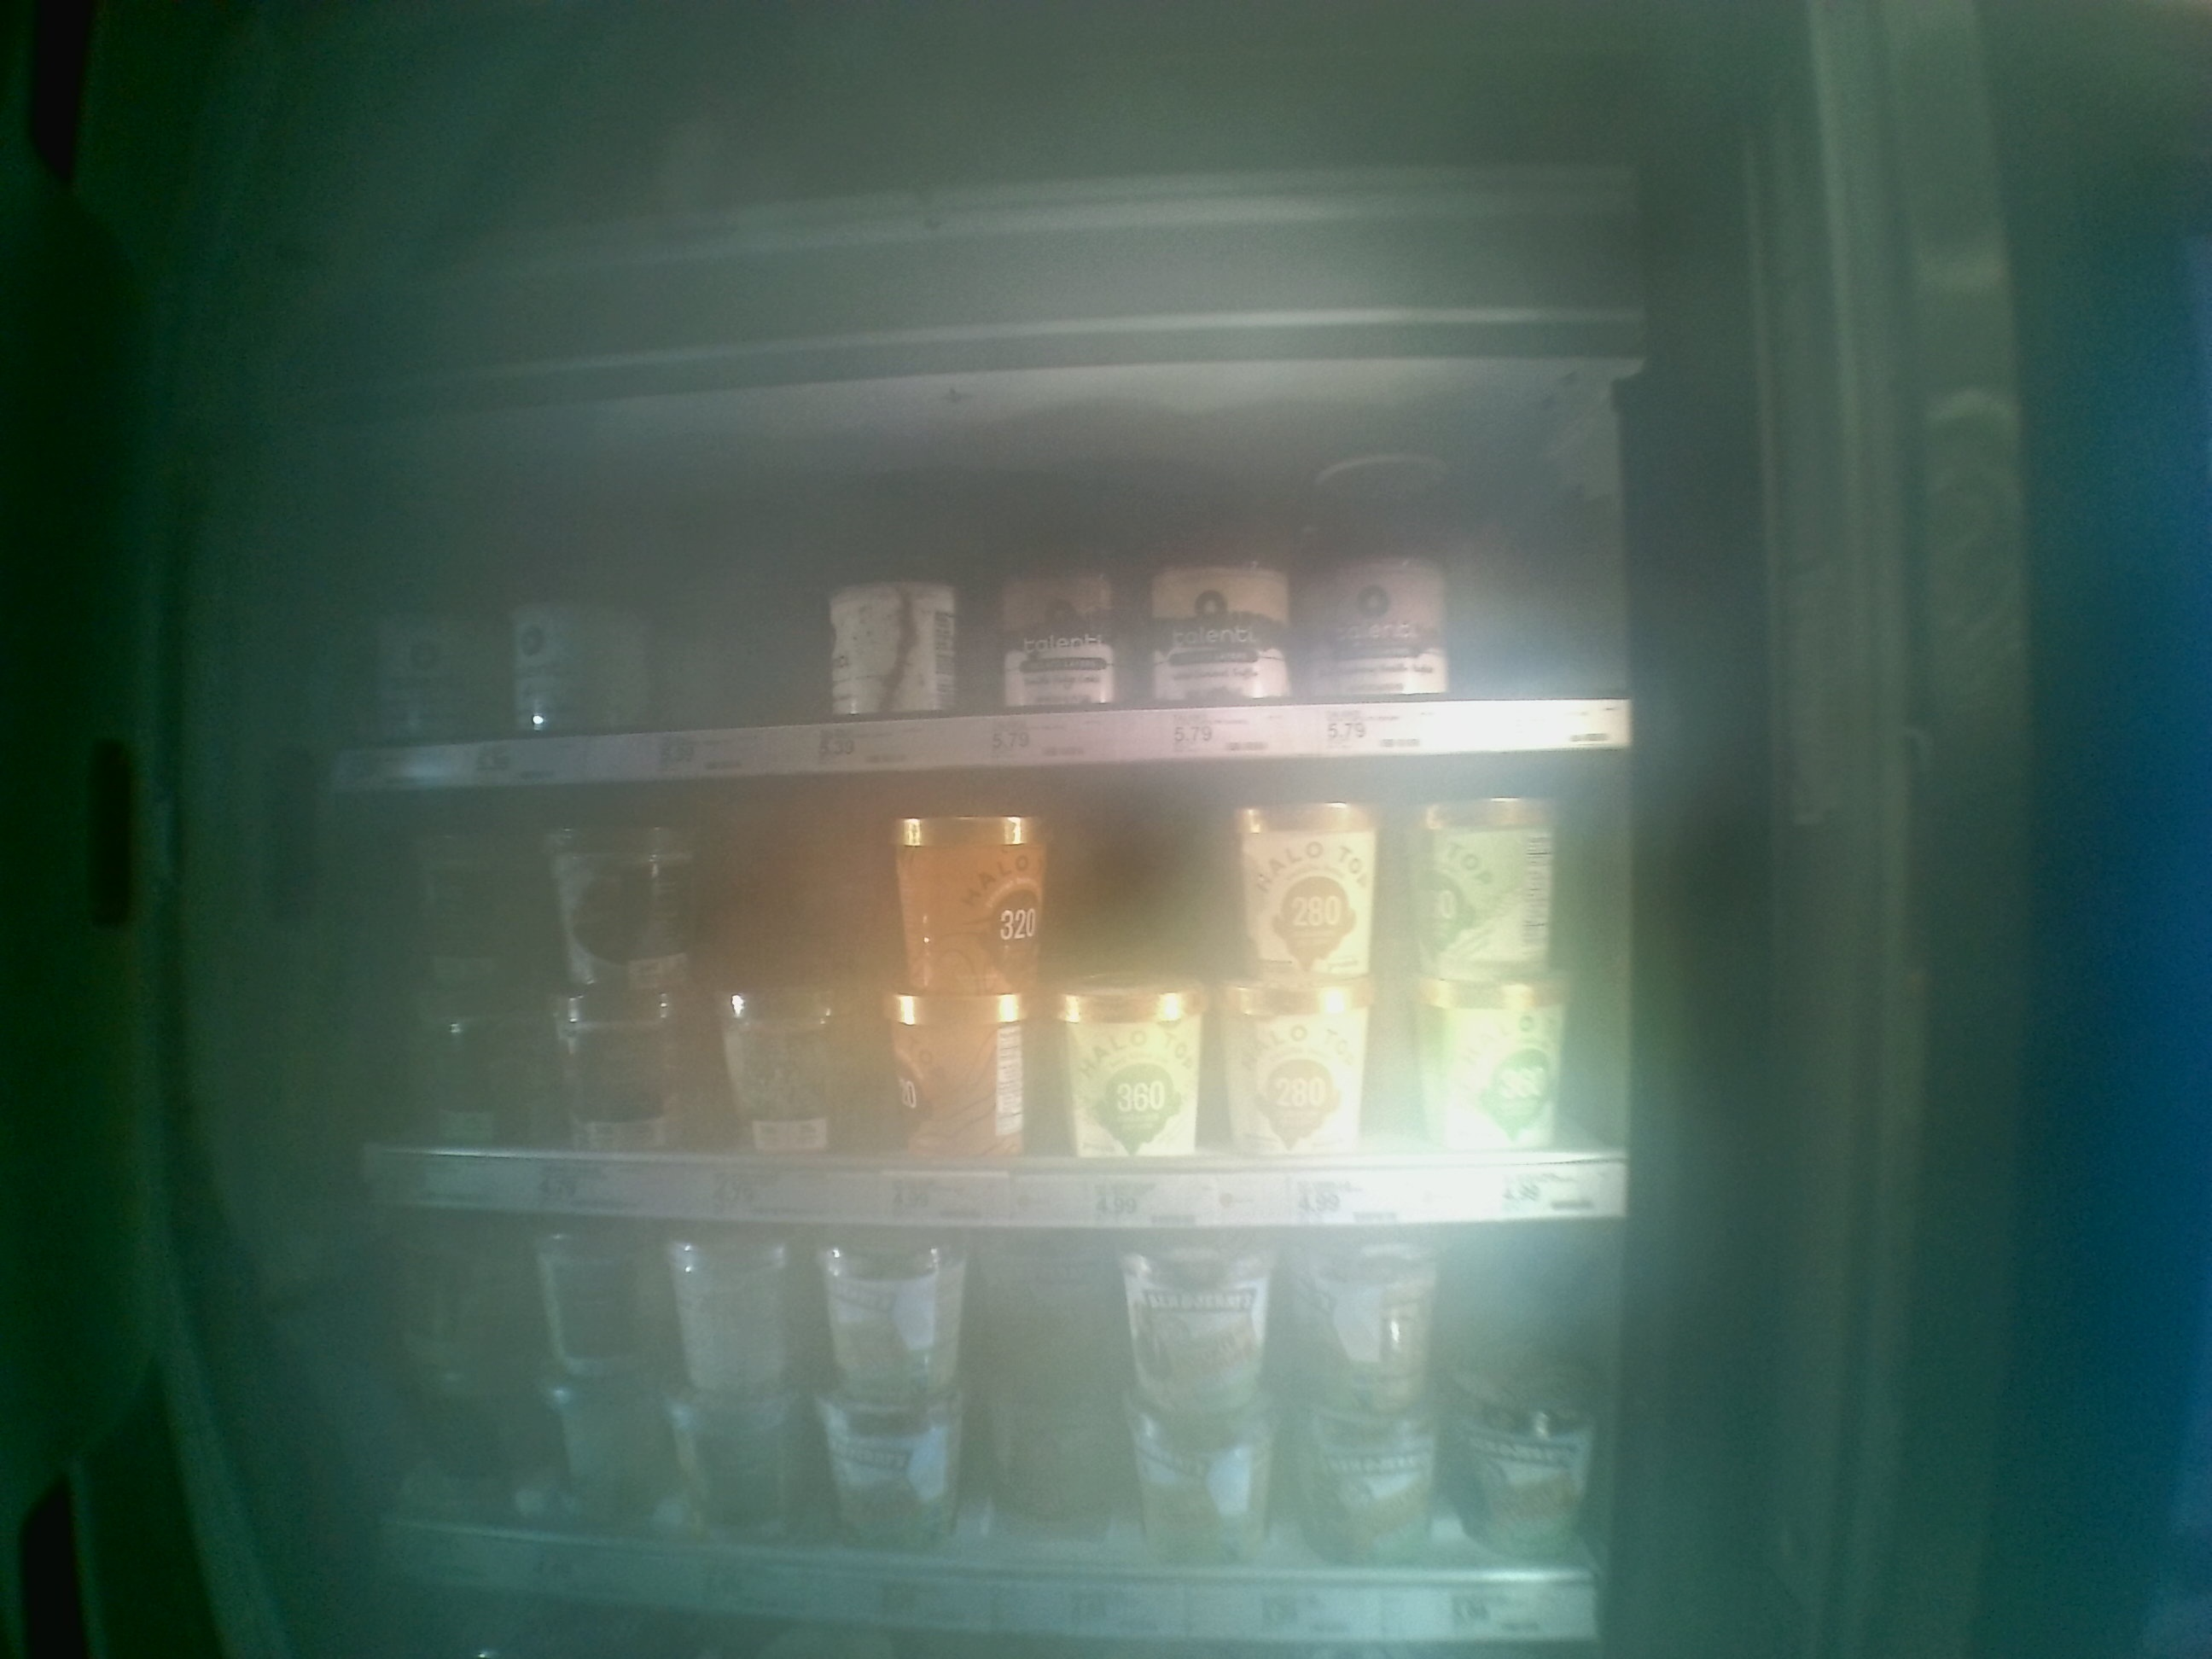shelf: (329, 769, 1627, 1225), (364, 1211, 1615, 1650), (326, 436, 1630, 791)
